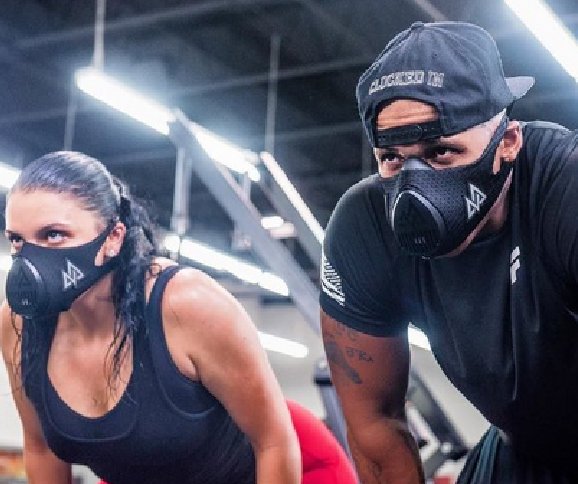with_mask: (362, 101, 516, 250), (3, 184, 123, 313)
